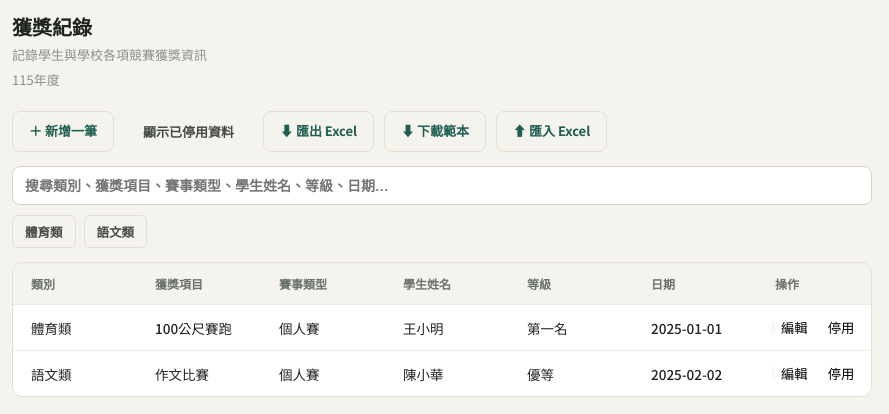
Test: Generic record list search and category filter › search box filters rows by any field, case-insensitively, without touching the underlying records
Step 1. Type "小明" into the search field named "搜尋" → (442, 186), box left=12, top=166, right=872, bottom=205
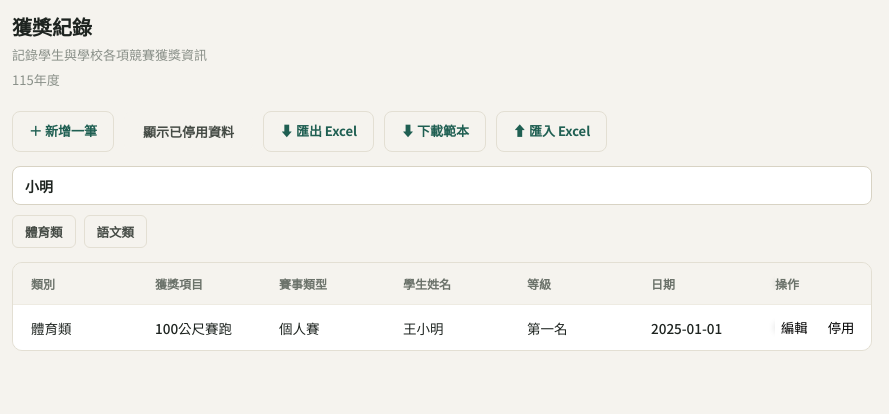
Expected: the text "王小明" is shown, left=403, top=318, right=444, bottom=338
Now the text "陳小華" is gone
Step 2. Clear the search field named "搜尋" → (442, 186), box left=12, top=166, right=872, bottom=205
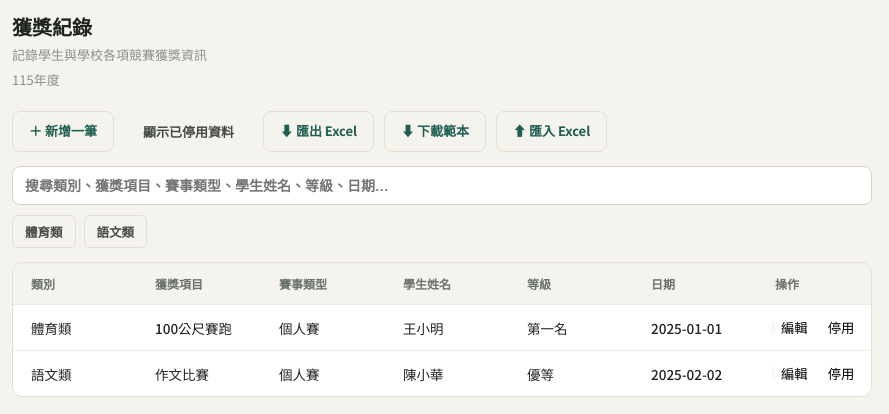
Now the text "陳小華" is shown, box left=403, top=364, right=444, bottom=384
